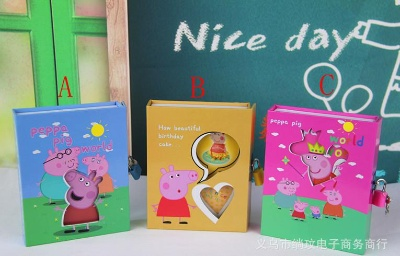Peppa: (57, 170, 103, 232), (154, 166, 197, 225), (288, 197, 308, 222)
